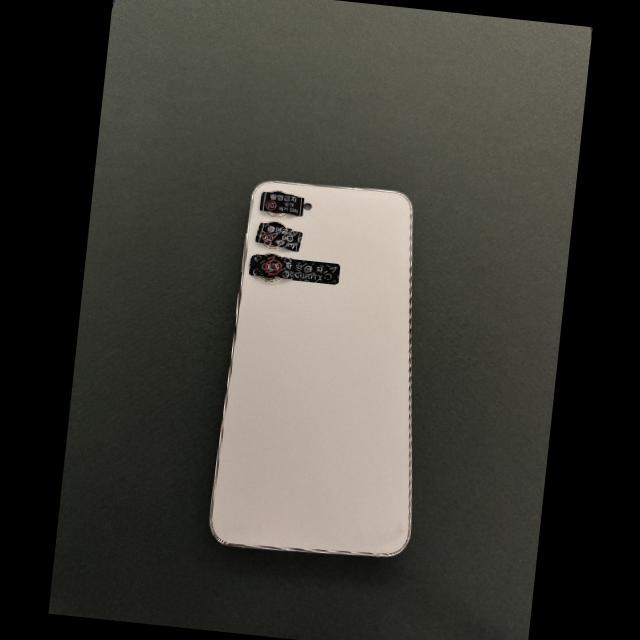lens: (268, 222, 286, 228), (260, 276, 281, 281), (270, 211, 285, 216)
phone: (210, 181, 412, 555)
sticker: (248, 254, 340, 284), (255, 222, 302, 251), (259, 192, 304, 216)
